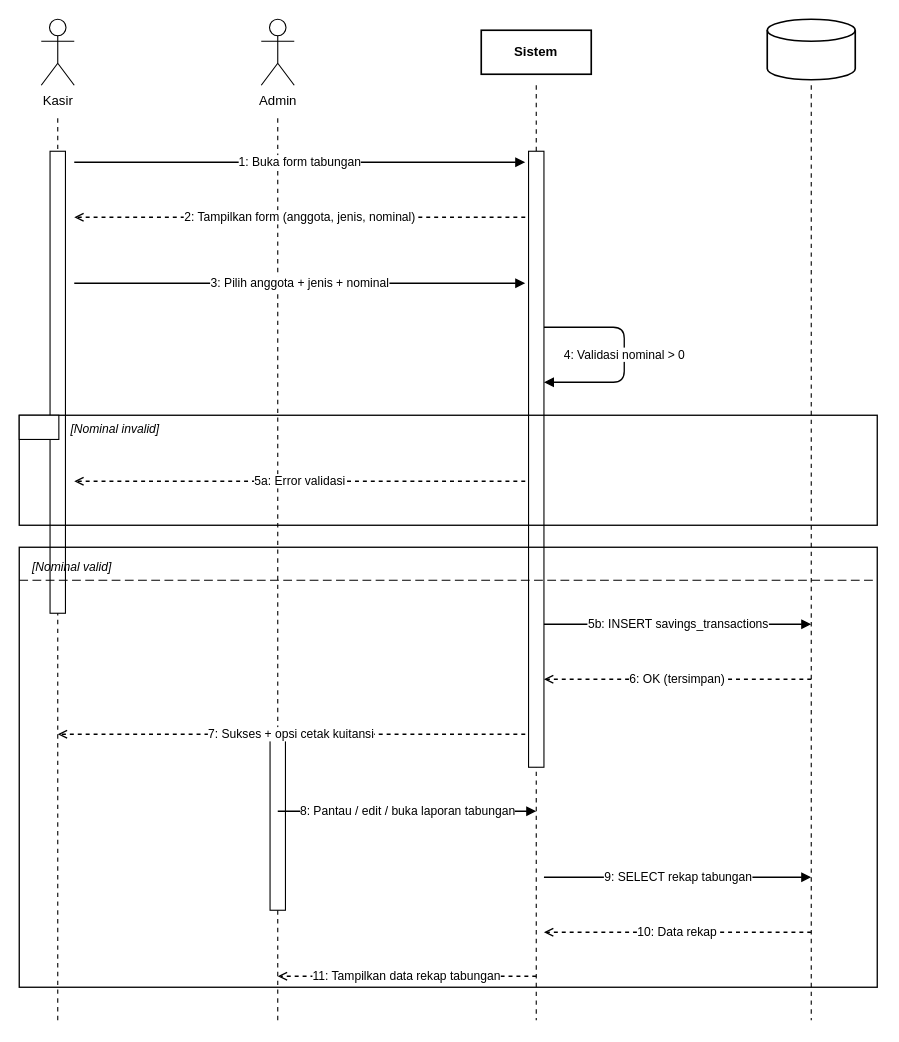
Image size: 899x1042. Some labels were removed from this diagram. Here are the shapes that lost their labels. From the top down, the centre of each, then its label:
At point 811,49: "MySQL".
At point 38,426: "alt".
